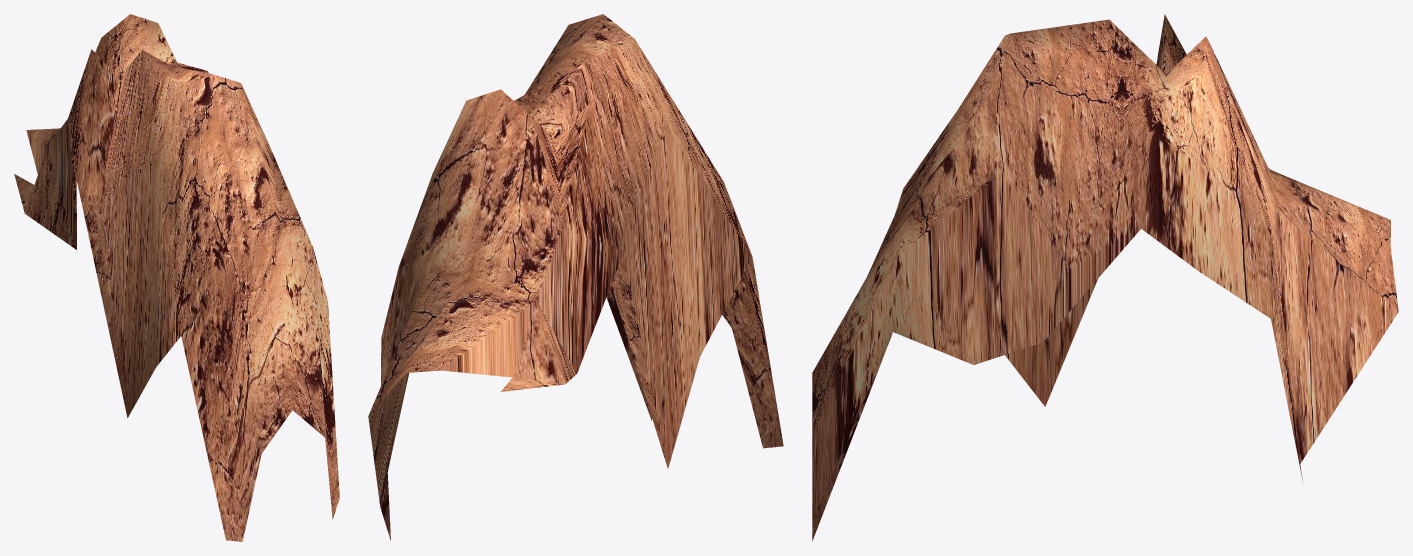
File: portal.fbx
The picture shows the model from 3 angles, left to right: view 1: azimuth 30°, elevation 25°; view 2: azimuth 150°, elevation 25°; view 3: azimuth 270°, elevation 25°; orthographic projection. The views are drawn at different scales.
Visible parts, largest first — view 1: Plane004; view 2: Plane004; view 3: Plane004.
Part boxes in pixels (bbox=[...]): Plane004: bbox=[14, 14, 339, 541]; Plane004: bbox=[368, 14, 783, 540]; Plane004: bbox=[812, 14, 1398, 540].
Size of the model in its own units: 22.54 by 57.16 by 63.
